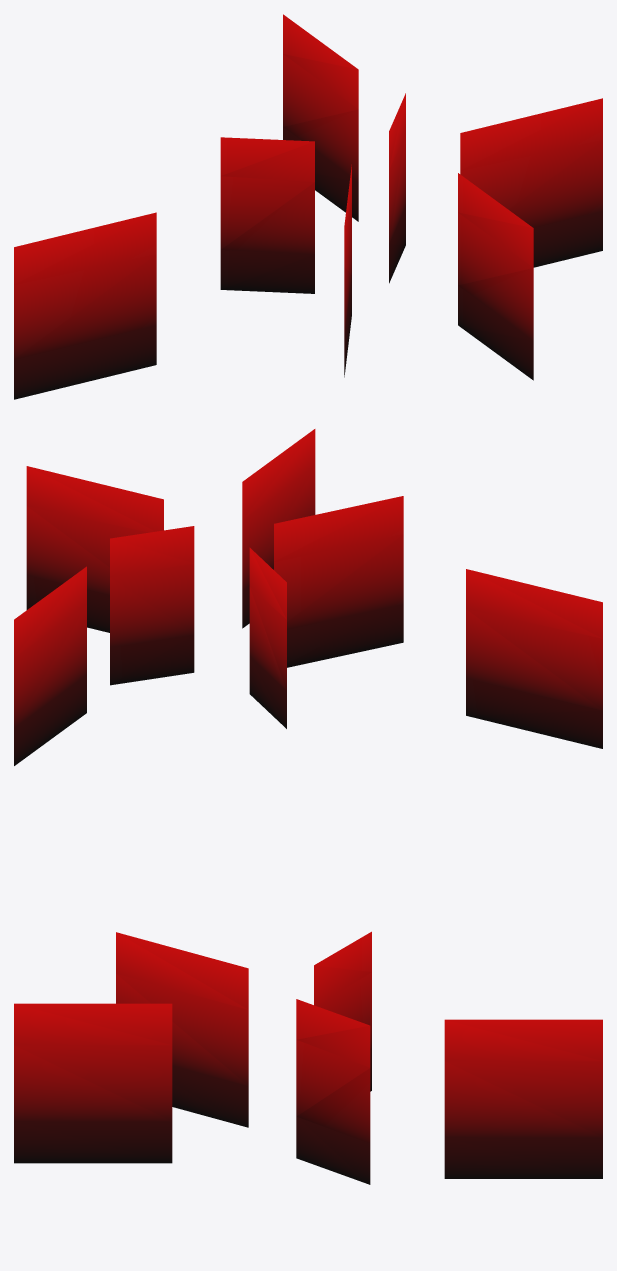
Rendered from grass-lod1.glb.
3 renders of one model, top to bottom at view 1: azimuth 30°, elevation 25°; view 2: azimuth 150°, elevation 25°; view 3: azimuth 270°, elevation 25°, orthographic. The views are drawn at different scales.
Visible parts, largest first — view 1: grass; view 2: grass; view 3: grass.
Part boxes in pixels (bbox=[...]): grass: bbox=[14, 14, 602, 399]; grass: bbox=[14, 429, 602, 765]; grass: bbox=[14, 931, 602, 1184].
Size of the model in its own units: 4.07 by 1 by 3.35.
